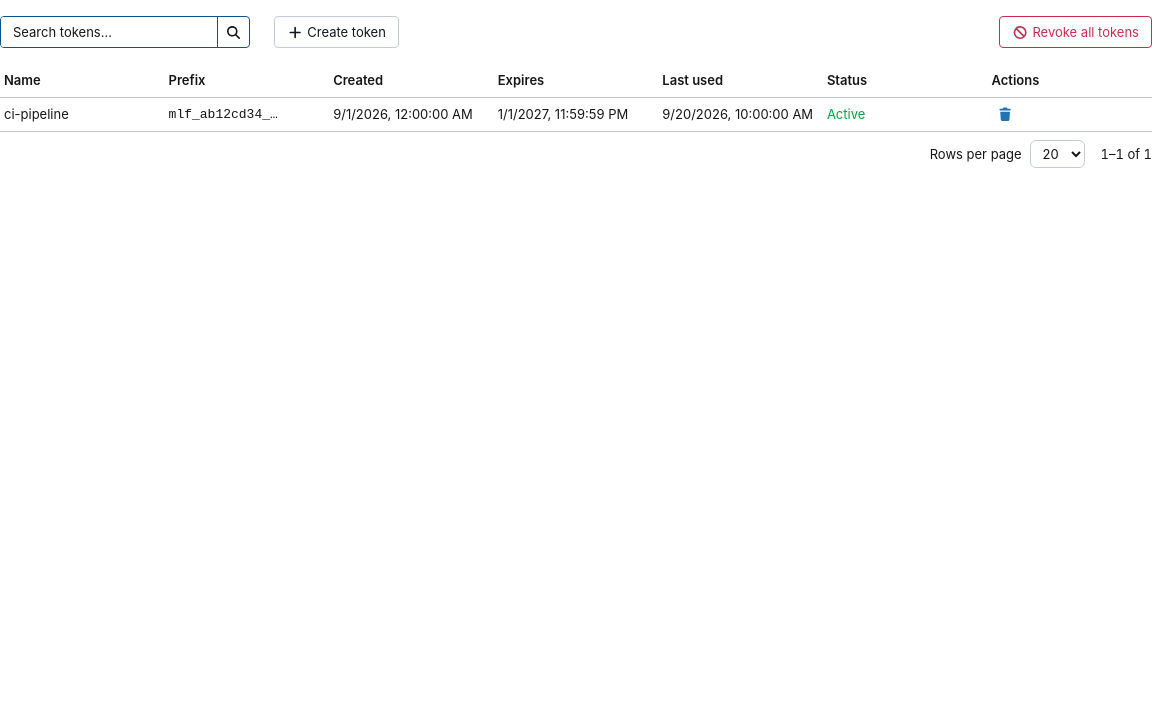
Test: UserTokensPanel › admin view of another account › refreshes the account's token count after a change made while searching
In the field with placeholder "Search tokens...": {"x": 109, "y": 32} [1,17,217,47], type "ci-pipeline"
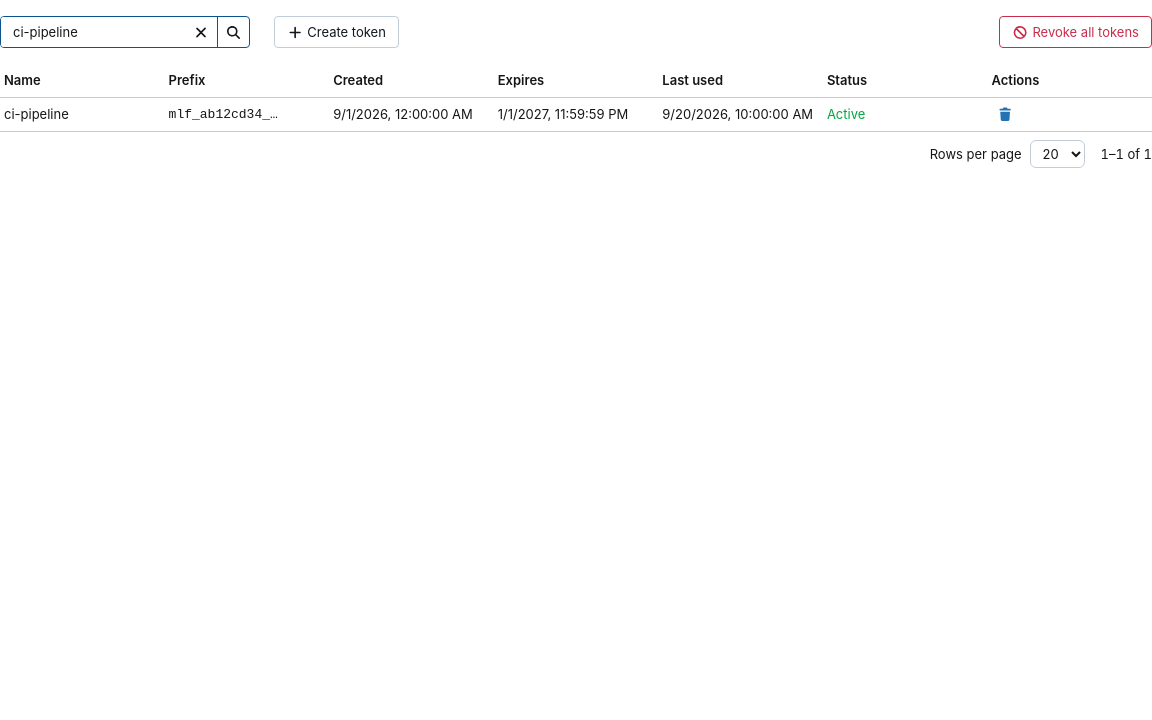
Submit the form with placeholder "Search tokens...", box [0,16,250,48]
Expected: the button "Revoke all tokens" is enabled, [999,16,1151,48]
Click the button titled "Delete token ci-pipeline": {"x": 1006, "y": 114} [992,100,1020,128]
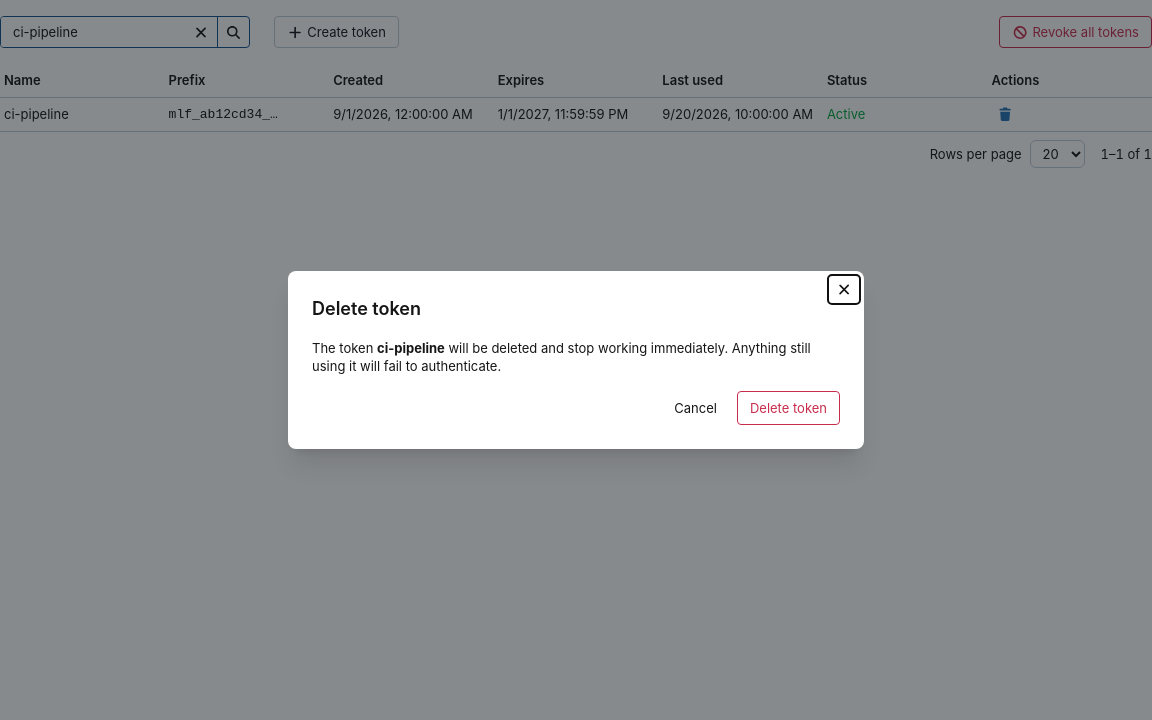
Click the button "Delete token": {"x": 788, "y": 408} [737,391,840,425]
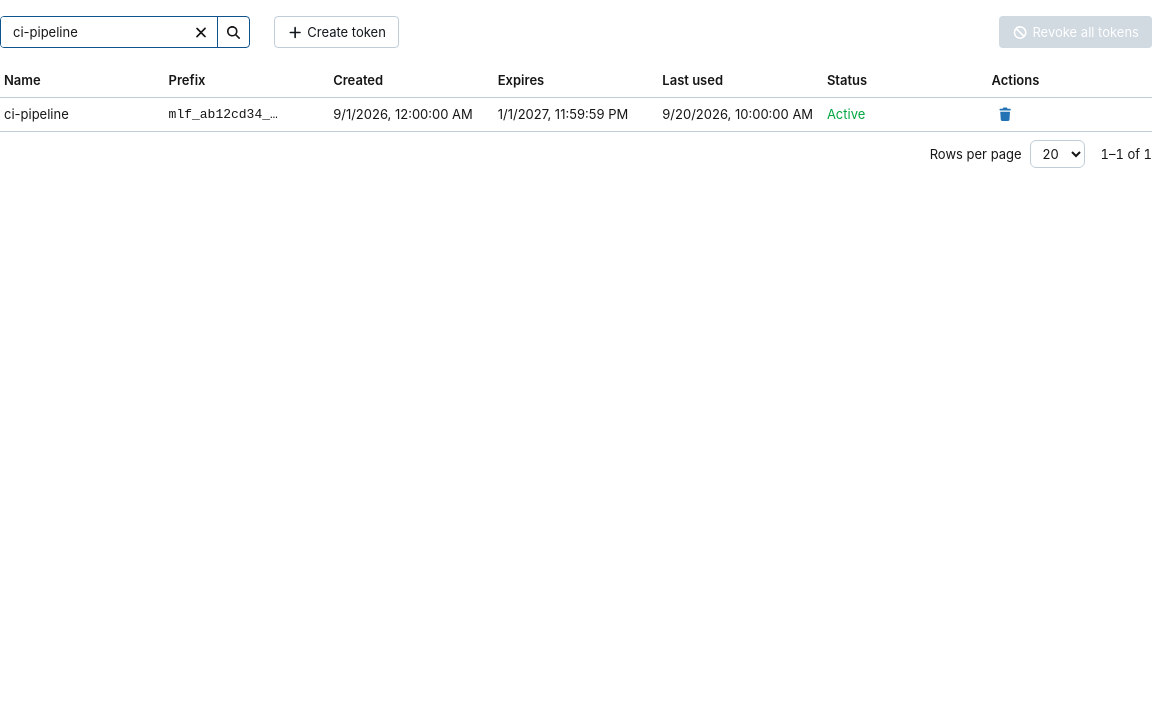
Expected: the button "Revoke all tokens" is disabled, [999,16,1151,48]
